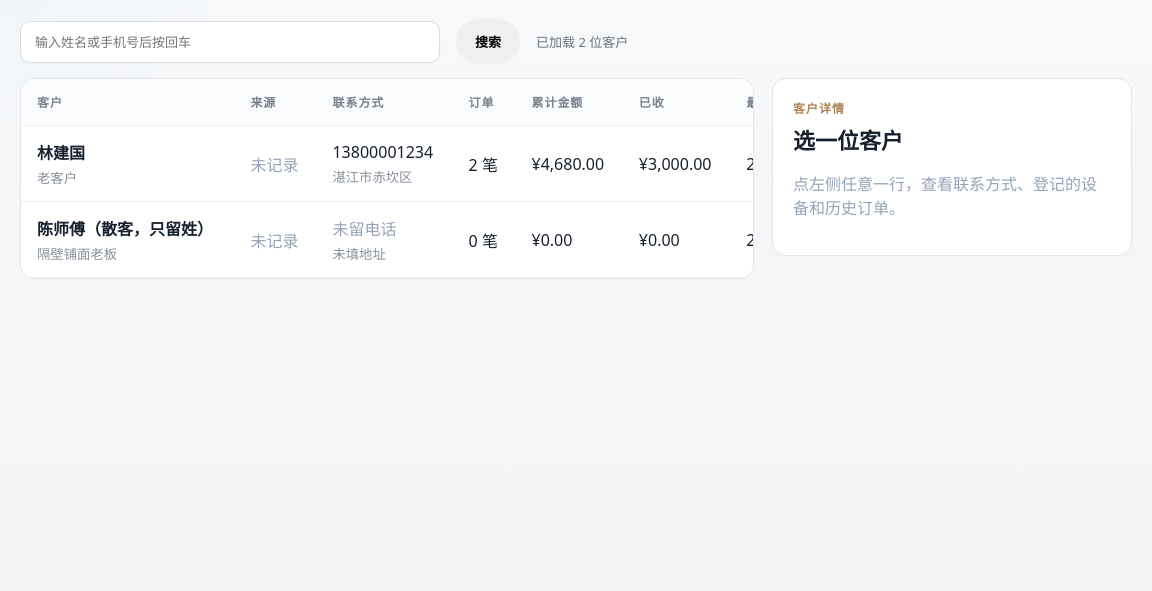
Test case: 客户详情与设备 › 点一行读详情，设备与订单都显示出来
The width and height of the screenshot is (1152, 591).
Click the text "林建国" at (61, 153), box [37, 142, 85, 164]
(page scrolled)
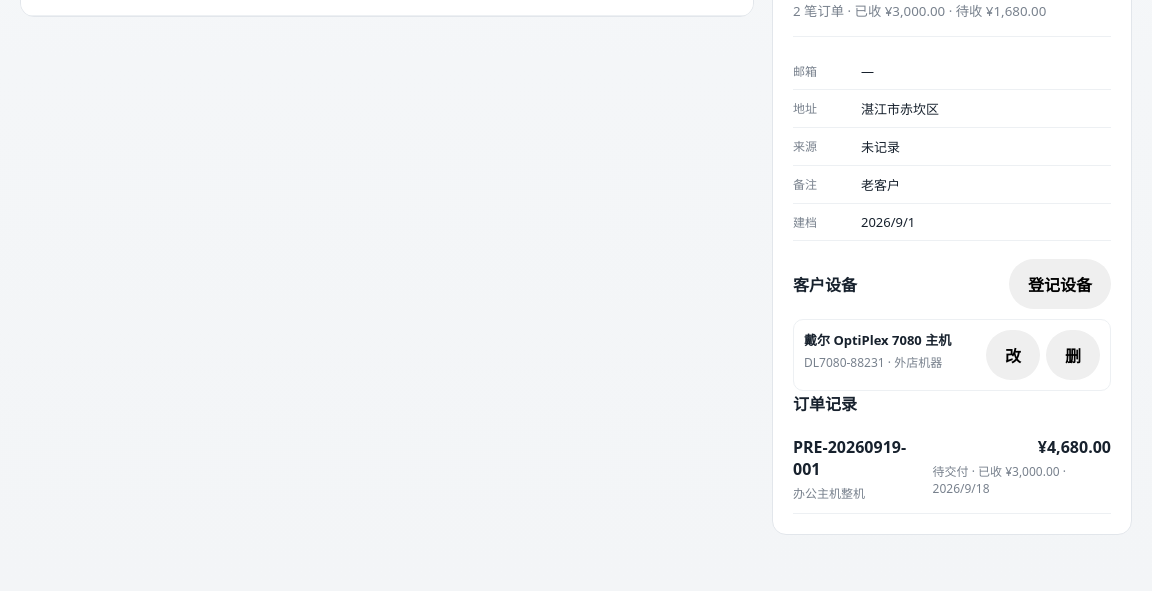
Expected: the text "戴尔 OptiPlex 7080 主机" is shown, [804, 330, 951, 349]
Expected: the text "DL7080-88231 · 外店机器" is shown, [804, 353, 951, 371]
Expected: the text "PRE-20260919-001" is shown, [793, 436, 923, 480]
